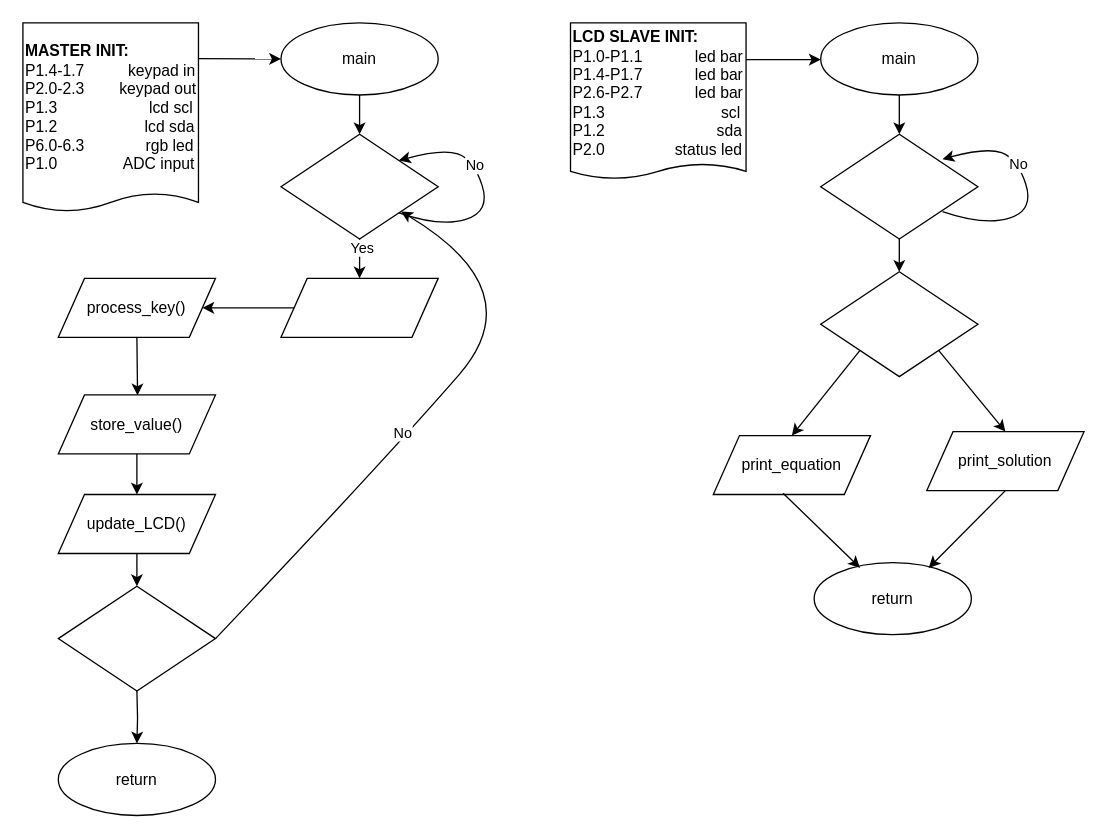
The diagram is 1107 pixels wide and 838 high, and some of its shapes have lost their labels. The shapes that lost their labels are listed below. From the top down, each one's box as (x1, y1, x2, y2) in pixels, then its label:
(280, 133, 438, 239): is key pressed?
(819, 133, 978, 239): i2c transmission?
(280, 277, 438, 337): get_key()
(819, 271, 978, 377): Mode
(57, 585, 215, 691): End of opperation?
